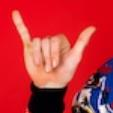clockwise: (10, 8, 98, 82)
